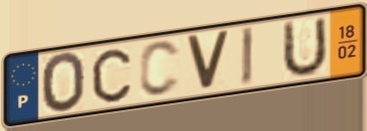C: (137, 38, 183, 99), (89, 46, 133, 105)
I: (239, 23, 256, 89)
O: (40, 50, 88, 116)
U: (279, 14, 330, 82)
V: (183, 29, 233, 92)
